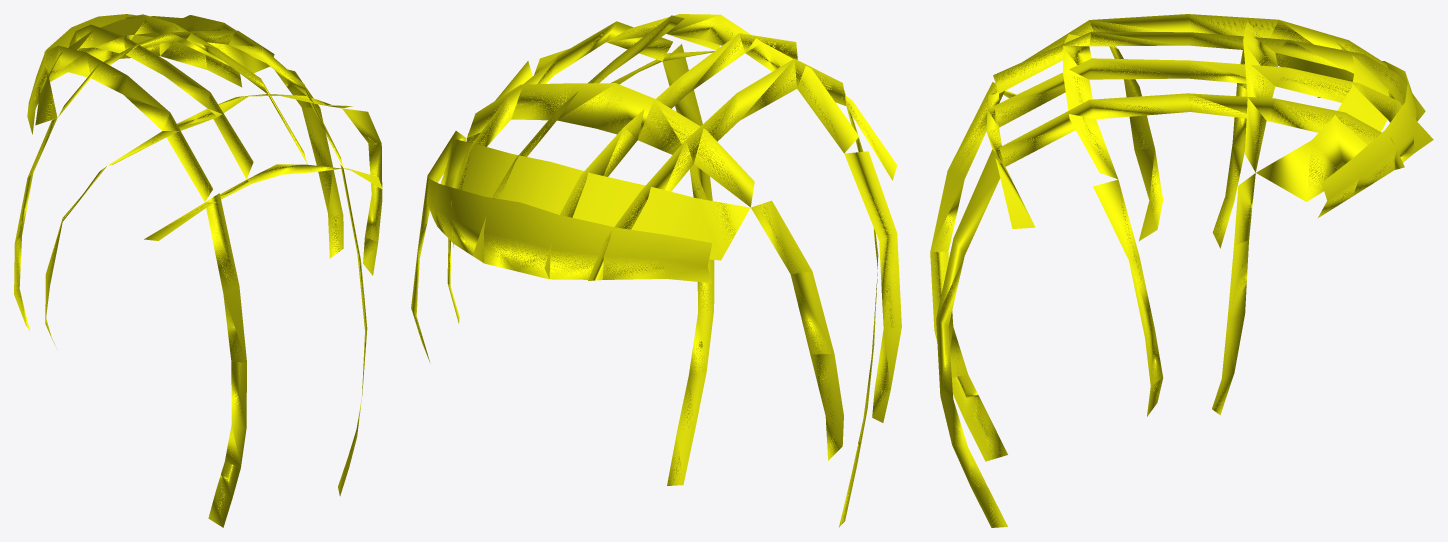
The model's file is rb-Business_Male_03.glb.
3 views of the same model, side by side, from view 1: azimuth 30°, elevation 25°; view 2: azimuth 150°, elevation 25°; view 3: azimuth 270°, elevation 25° (orthographic). The views are drawn at different scales.
Parts seen in each view (by area): view 1: hair_Business_Male_03; view 2: hair_Business_Male_03; view 3: hair_Business_Male_03.
Boxes of the visible parts, box(x1,y1,x2,y2) form: hair_Business_Male_03: box(14, 14, 382, 527); hair_Business_Male_03: box(411, 14, 901, 527); hair_Business_Male_03: box(930, 14, 1433, 527).
Bounding box in the file's own units: 0.1625 × 0.1836 × 0.1845.
1 material, 1 textured.
